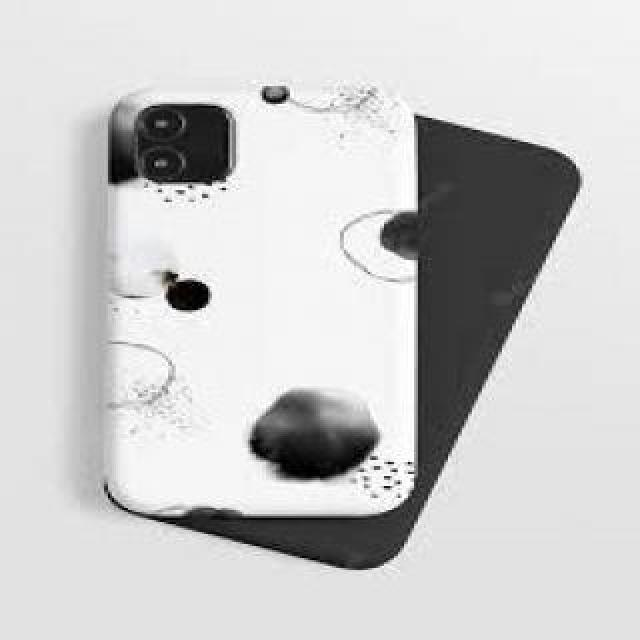smart phone: (92, 55, 425, 530)
